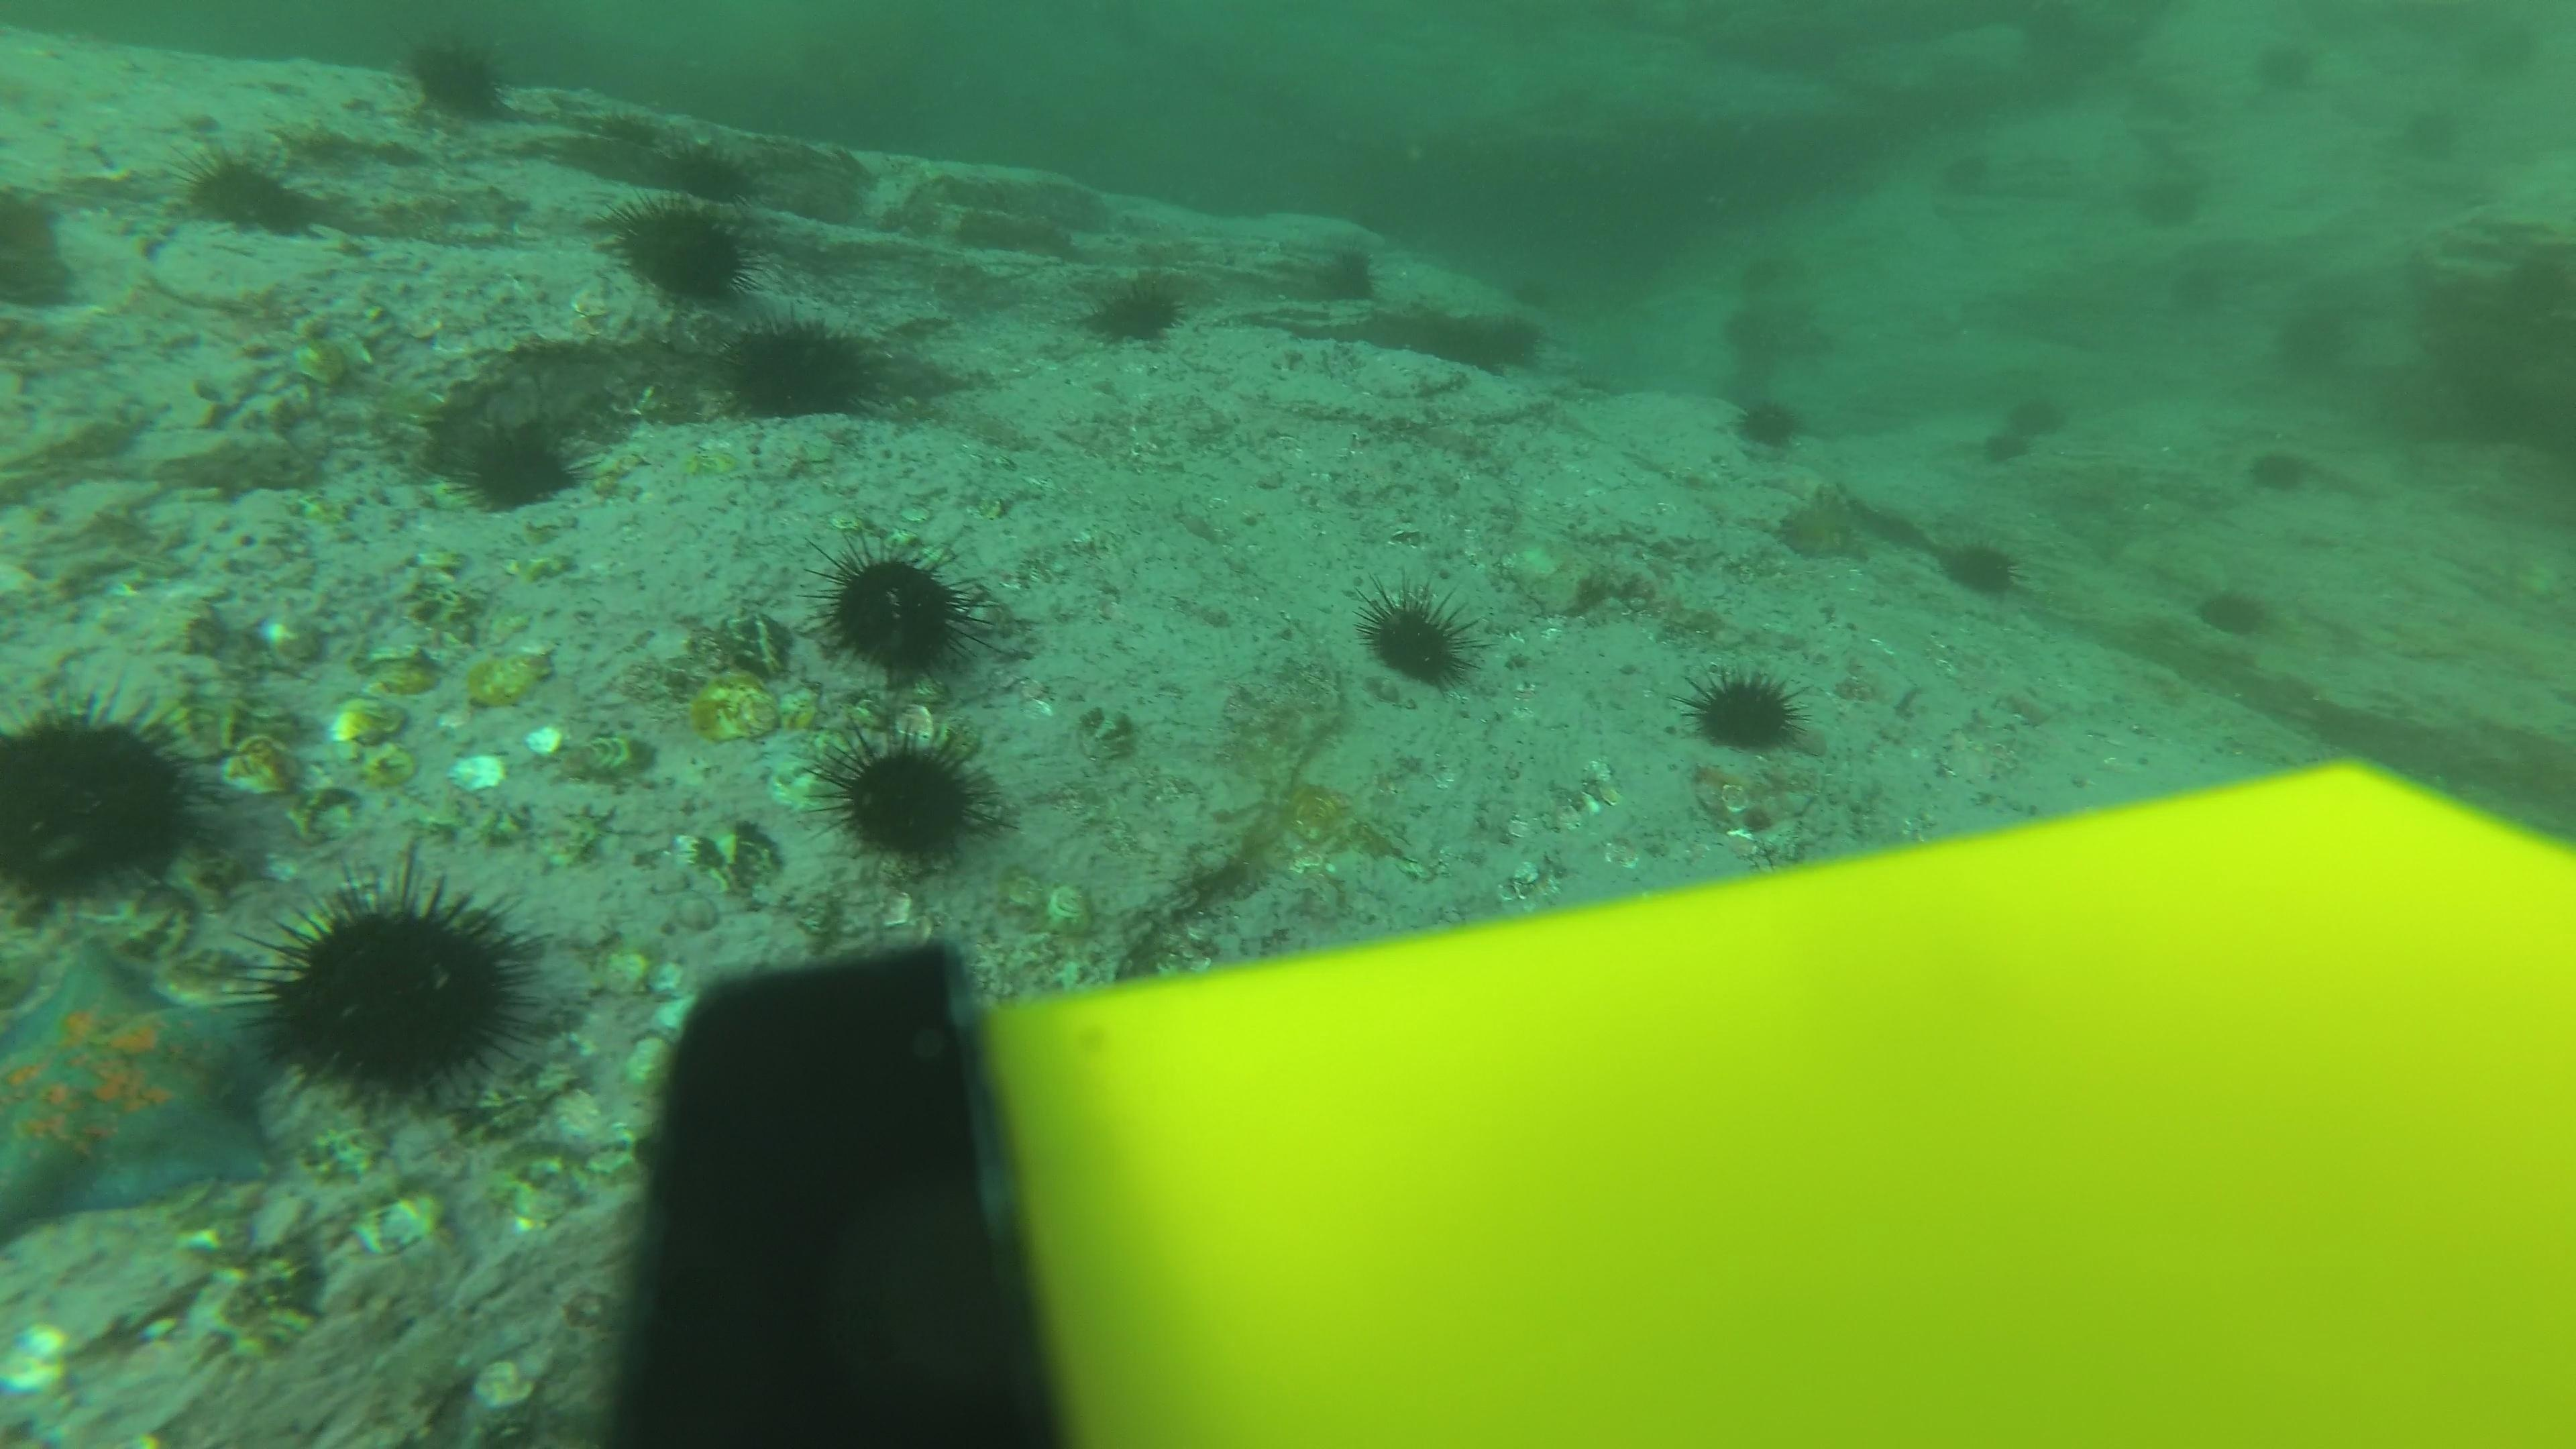echinus: (242, 860, 547, 1109), (2, 686, 218, 904), (812, 725, 998, 869), (814, 536, 985, 685), (715, 311, 888, 428), (603, 189, 761, 310), (448, 407, 589, 517), (179, 143, 329, 246), (1355, 580, 1484, 695), (1683, 663, 1810, 761), (395, 32, 520, 129), (1081, 265, 1194, 352), (1428, 303, 1548, 379), (660, 136, 757, 207), (1936, 531, 2028, 605), (2190, 577, 2279, 644), (1723, 387, 1808, 456), (1313, 241, 1385, 306), (2242, 439, 2318, 501), (2273, 315, 2350, 377), (2473, 21, 2549, 83), (2247, 42, 2323, 104), (1737, 241, 1813, 303), (2158, 253, 2233, 315), (2130, 180, 2204, 242), (2390, 106, 2465, 168), (1907, 140, 1982, 202), (2006, 384, 2070, 442), (1976, 426, 2040, 485)
holothurian: (1775, 487, 1877, 568)
starfish: (0, 938, 288, 1242), (1272, 770, 1407, 869)
